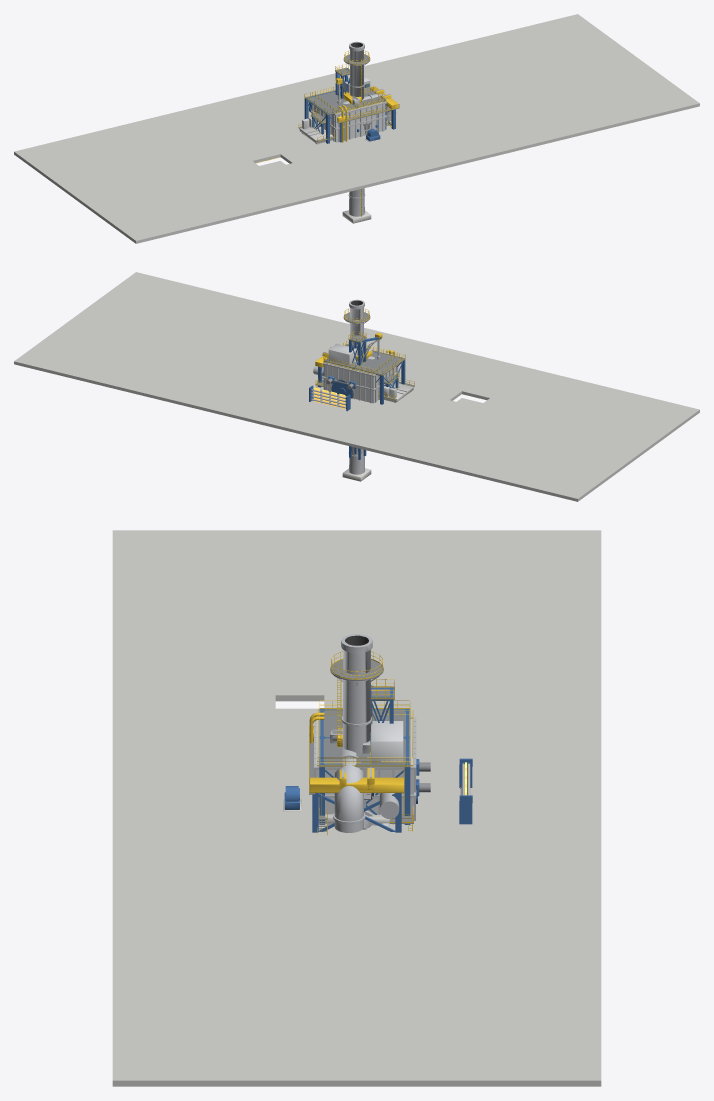
The model's file is steelmaking.glb.
The picture shows the model from 3 angles, top to bottom: view 1: azimuth 30°, elevation 25°; view 2: azimuth 150°, elevation 25°; view 3: azimuth 270°, elevation 25°; orthographic projection. The views are drawn at different scales.
Parts seen in each view (by area): view 1: Floor_Slab, S3_Gas_Cleaning_Plant, S3_Stack, S6_Caster_Tower, S4_Ladle_Crane, S3_Hood_Duct_Lance, S1_Elevated_Track; view 2: Floor_Slab, S3_Gas_Cleaning_Plant, S6_Caster_Tower, S3_Stack, S3_Hood_Duct_Lance, S6_Strands_Segments, S1_Elevated_Track, S3_Converter_Bearings_Drive; view 3: Floor_Slab, S6_Caster_Tower, S3_Stack, S3_Gas_Cleaning_Plant, S4_Ladle_Crane, S3_Hood_Duct_Lance, S6_Strands_Segments.
Part boxes in pixels (<box>): Floor_Slab: <box>14,14,699,243</box>; S3_Gas_Cleaning_Plant: <box>310,87,386,142</box>; S3_Stack: <box>342,41,371,223</box>; S6_Caster_Tower: <box>304,76,386,143</box>; S4_Ladle_Crane: <box>337,86,399,142</box>; S3_Hood_Duct_Lance: <box>335,64,396,121</box>; S1_Elevated_Track: <box>298,117,396,144</box>; Floor_Slab: <box>14,272,699,501</box>; S3_Gas_Cleaning_Plant: <box>313,341,399,403</box>; S6_Caster_Tower: <box>323,340,405,404</box>; S3_Stack: <box>342,299,371,481</box>; S3_Hood_Duct_Lance: <box>348,331,382,459</box>; S6_Strands_Segments: <box>309,385,350,411</box>; S1_Elevated_Track: <box>378,378,414,402</box>; S3_Converter_Bearings_Drive: <box>326,376,355,398</box>; Floor_Slab: <box>112,530,601,1086</box>; S6_Caster_Tower: <box>318,700,410,824</box>; S3_Stack: <box>330,634,383,752</box>; S3_Gas_Cleaning_Plant: <box>309,710,416,831</box>; S4_Ladle_Crane: <box>309,726,404,832</box>; S3_Hood_Duct_Lance: <box>333,679,394,832</box>; S6_Strands_Segments: <box>459,758,472,824</box>.
Bounding box in the file's own units: 1048544 × 306699 × 393248.
